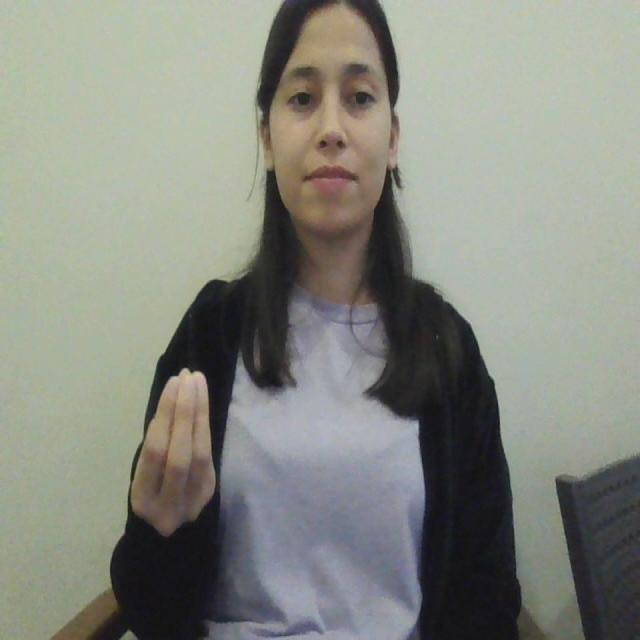iyi: (119, 355, 225, 545)
